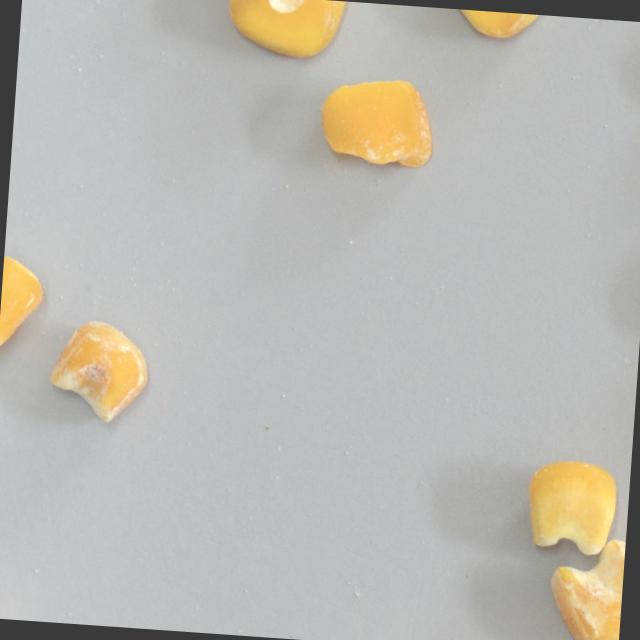dañado: (313, 72, 440, 174), (43, 316, 153, 427), (223, 0, 356, 67), (544, 533, 626, 640), (438, 8, 544, 44)
no_canjicado: (520, 454, 623, 561)
punto_negro: (0, 252, 49, 358)
